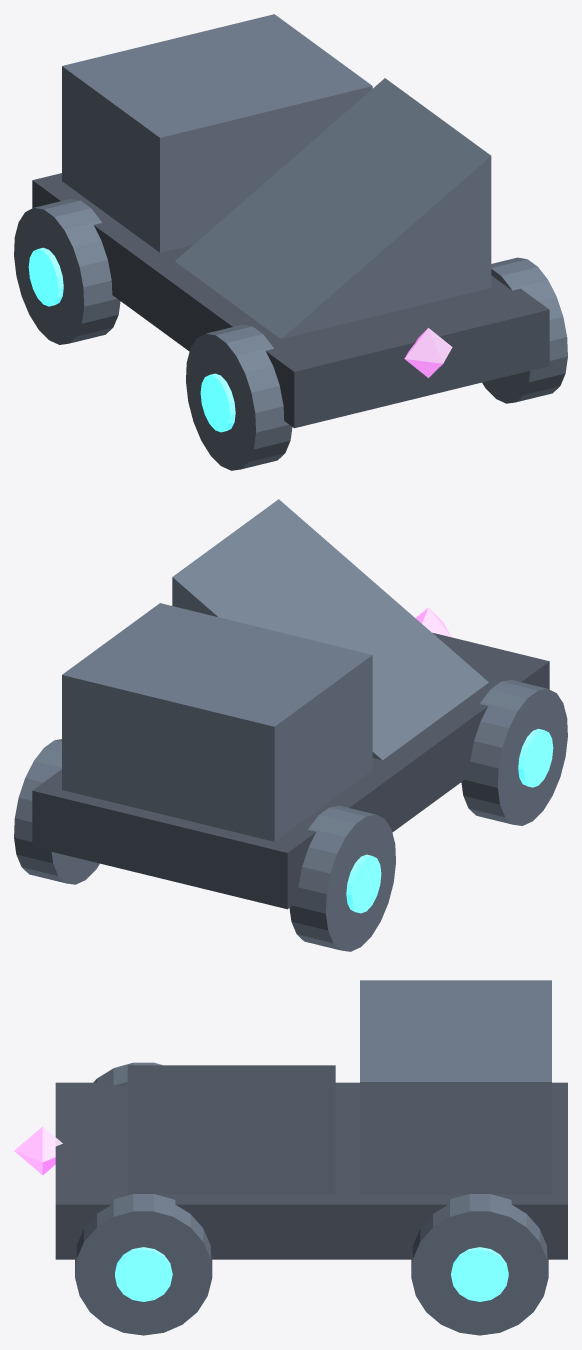
File: AXM-VEHICLE-CHASSIS-001_LOD1.glb
The picture shows the model from 3 angles, top to bottom: view 1: azimuth 30°, elevation 25°; view 2: azimuth 150°, elevation 25°; view 3: azimuth 270°, elevation 25°; orthographic projection. The views are drawn at different scales.
Visible parts, largest first — view 1: cabin, cargo, chassis, wheel__g01, wheel__g00, wheel__g02, hub__g01, hub__g00, front_core; view 2: cargo, chassis, cabin, wheel__g00, wheel__g01, wheel__g03, hub__g01, hub__g00; view 3: cargo, chassis, cabin, wheel__g03, wheel__g02, hub__g02, hub__g03, front_core, wheel__g00.
Part boxes in pixels (bbox=[...]): cabin: bbox=[175, 78, 491, 338]; cargo: bbox=[62, 14, 372, 252]; chassis: bbox=[32, 173, 549, 428]; wheel__g01: bbox=[14, 199, 120, 344]; wheel__g00: bbox=[186, 324, 292, 470]; wheel__g02: bbox=[482, 257, 567, 403]; hub__g01: bbox=[28, 247, 63, 306]; hub__g00: bbox=[200, 373, 235, 432]; front_core: bbox=[404, 328, 452, 377]; cargo: bbox=[62, 603, 372, 841]; chassis: bbox=[32, 632, 549, 909]; cabin: bbox=[172, 499, 488, 760]; wheel__g00: bbox=[461, 680, 567, 825]; wheel__g01: bbox=[289, 805, 395, 951]; wheel__g03: bbox=[14, 739, 99, 884]; hub__g01: bbox=[346, 854, 381, 913]; hub__g00: bbox=[518, 728, 553, 787]; cargo: bbox=[360, 980, 551, 1194]; chassis: bbox=[55, 1082, 567, 1259]; cabin: bbox=[127, 1065, 335, 1194]; wheel__g03: bbox=[411, 1194, 548, 1335]; wheel__g02: bbox=[75, 1194, 212, 1335]; hub__g02: bbox=[115, 1247, 172, 1301]; hub__g03: bbox=[451, 1247, 508, 1301]; front_core: bbox=[14, 1126, 62, 1175]; wheel__g00: bbox=[93, 1062, 162, 1086].
Size of the model in its own units: 2.28 by 1.7 by 3.46.
